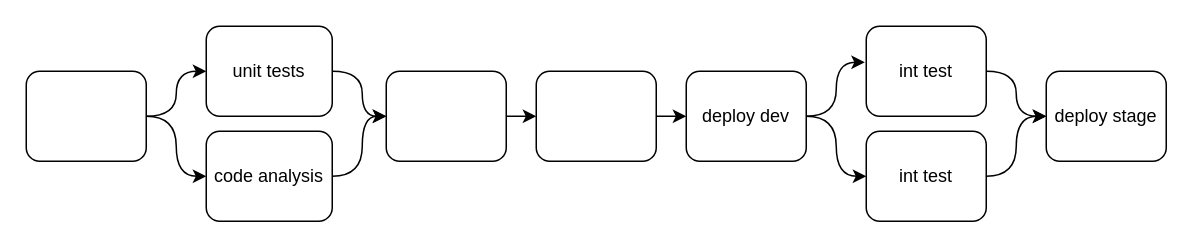
Some shapes in this 1193 by 248 pixel diagram are drawn without their labels. The centre of each missing label's shape, as x and y in pixels:
build image: pixel 595 115
build jar: pixel 85 115
push to nexus: pixel 445 115
